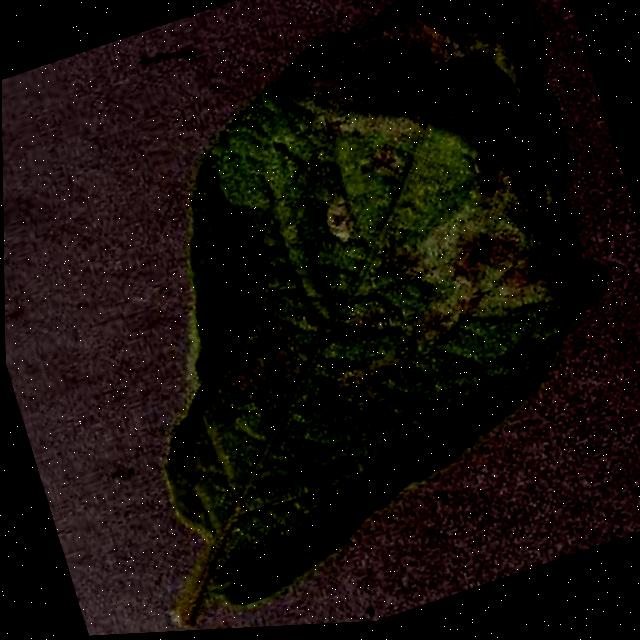Late_blight: (199, 276, 432, 475), (267, 0, 522, 173), (401, 175, 575, 333), (197, 487, 367, 595)
